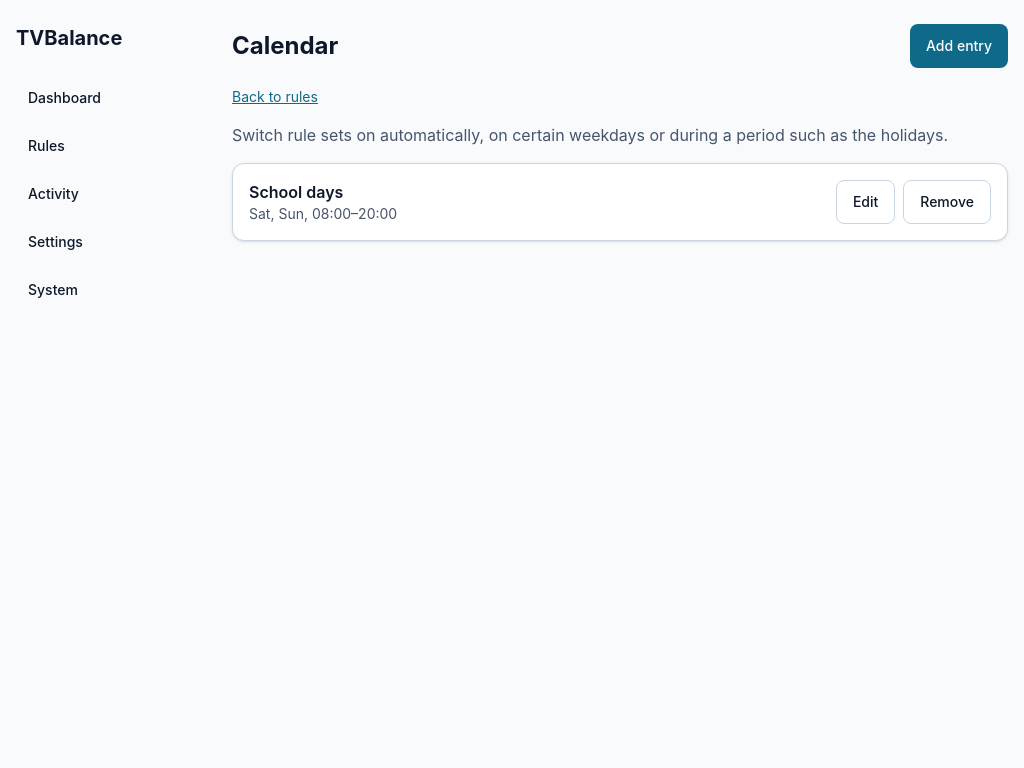
Test: calendar › removes an entry
The width and height of the screenshot is (1024, 768).
Click the button with aria-label "Remove entry for School days" at (947, 202), box x1=903 y1=180 x2=991 y2=224
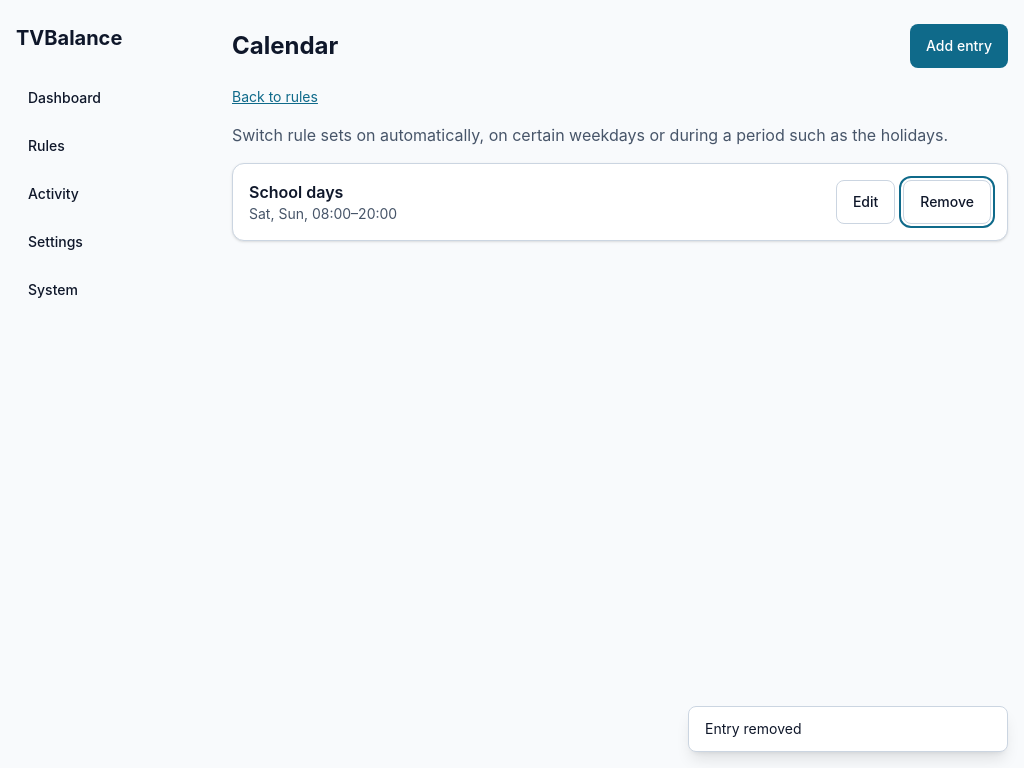
Expected: the text "Entry removed" is shown, x1=688 y1=706 x2=1008 y2=752
